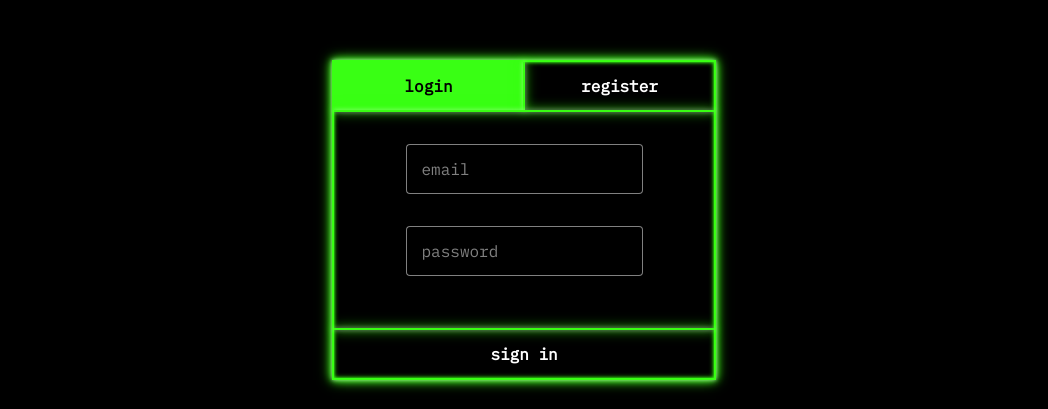
Test: navigation › logs out
Type "test@mail.com" into the field with id "loginEmail" at x=525, y=169, box [406,144,643,194]
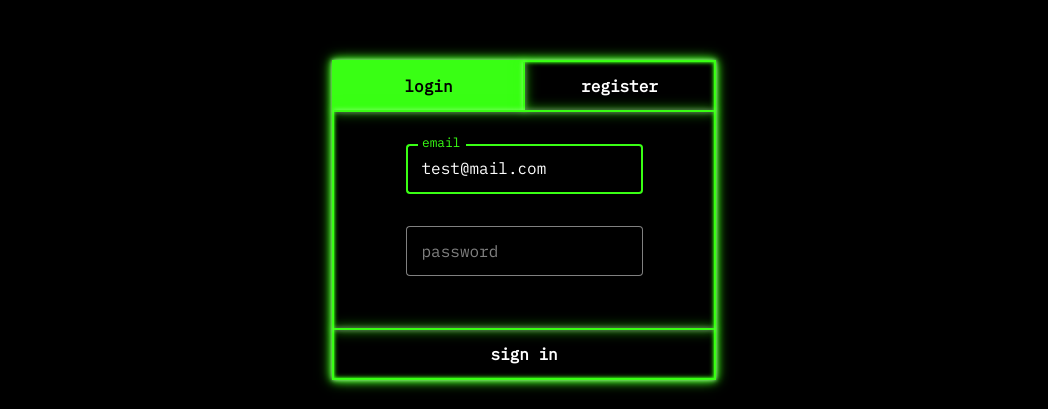
Type "test123!" into the password field with id "loginPassword" at x=525, y=251, box [406,226,643,276]
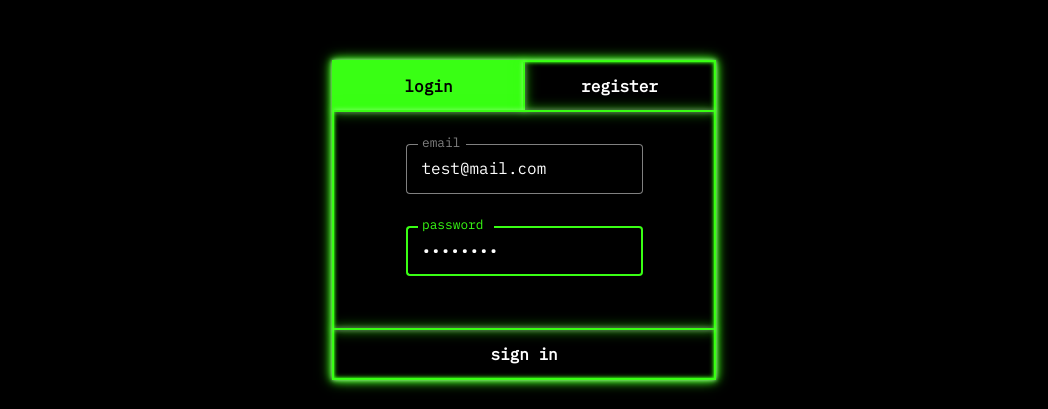
Click the button with id "loginConfirm" at x=524, y=354, box [334,330,714,378]
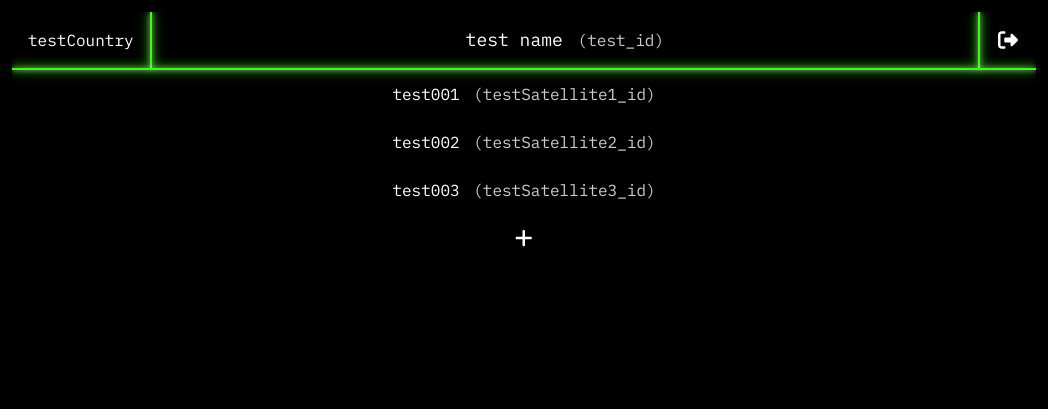
Check: the element that starts with "test001" is shown, box [12,70,1036,262]
Click the button titled "logout" at x=1008, y=40, box [980,12,1036,68]
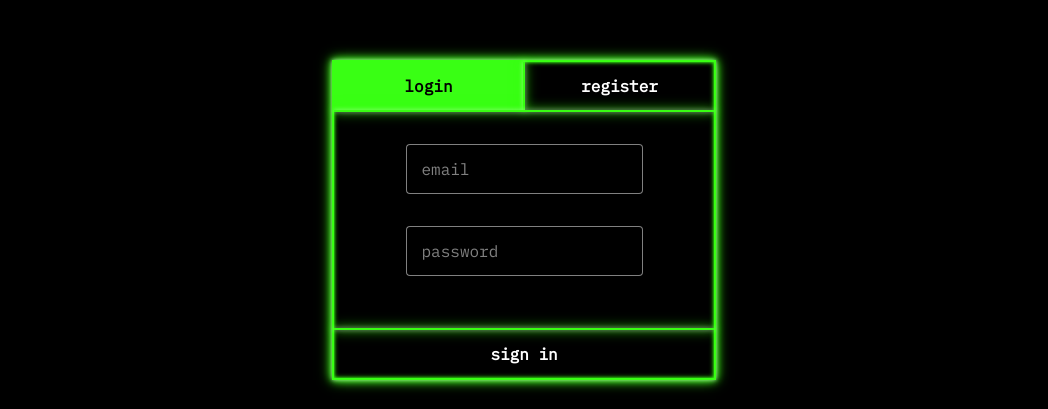
Check: the button "login" is shown, box [334,62,523,110]
